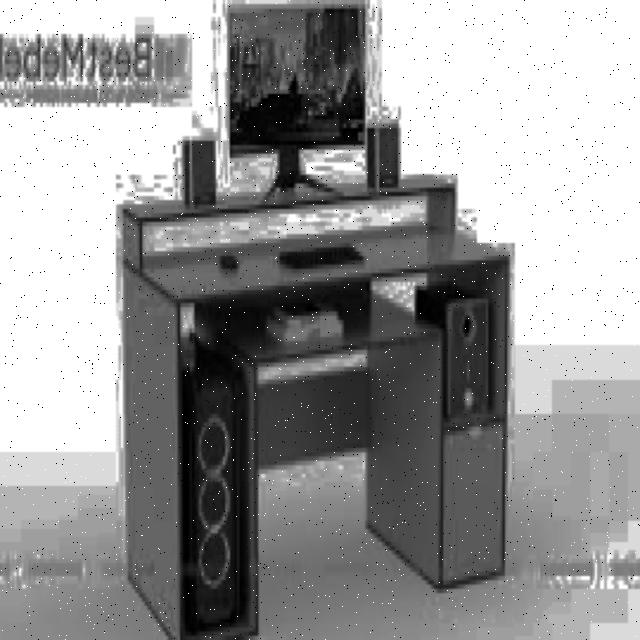table: (123, 175, 512, 640)
